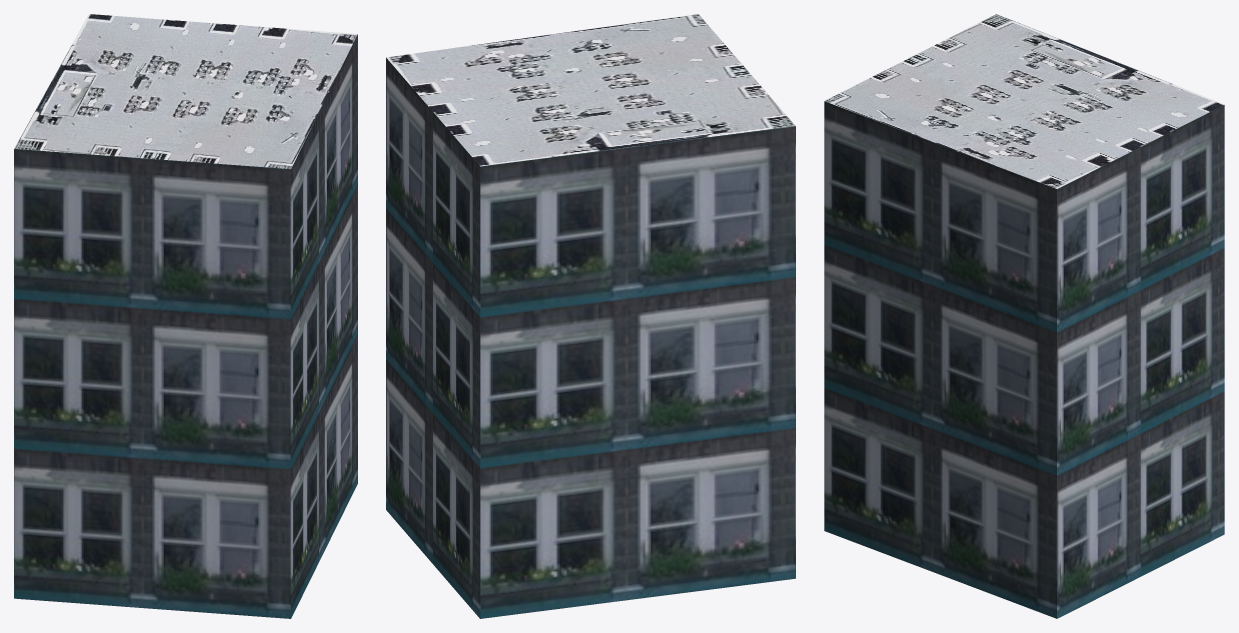
The model's file is ResTex__3236.fbx.
3 renders of one model, left to right at view 1: azimuth 30°, elevation 25°; view 2: azimuth 150°, elevation 25°; view 3: azimuth 270°, elevation 25°, orthographic. The views are drawn at different scales.
Visible parts, largest first — view 1: CityEngineMaterial_11_m, CityEngineMaterial_4_m; view 2: CityEngineMaterial_11_m, CityEngineMaterial_4_m; view 3: CityEngineMaterial_11_m, CityEngineMaterial_4_m.
Boxes of the visible parts, left/top/right/bottom form: CityEngineMaterial_11_m: left=14, top=34, right=357, bottom=618; CityEngineMaterial_4_m: left=14, top=14, right=357, bottom=169; CityEngineMaterial_11_m: left=386, top=57, right=795, bottom=618; CityEngineMaterial_4_m: left=386, top=14, right=795, bottom=166; CityEngineMaterial_11_m: left=824, top=101, right=1224, bottom=618; CityEngineMaterial_4_m: left=824, top=14, right=1224, bottom=188.
Size of the model in its own units: 7.86 by 9 by 7.6.
Materials: 2 (2 with a texture image).
